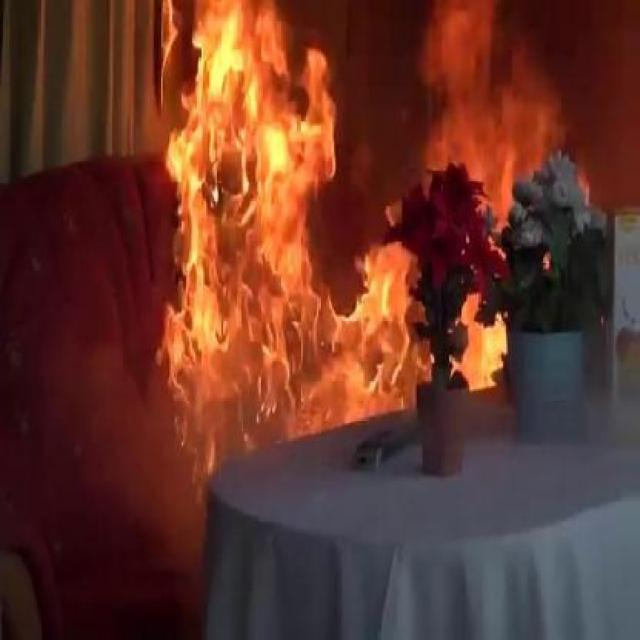fire: (121, 0, 417, 449), (426, 19, 546, 162), (452, 271, 517, 407)
